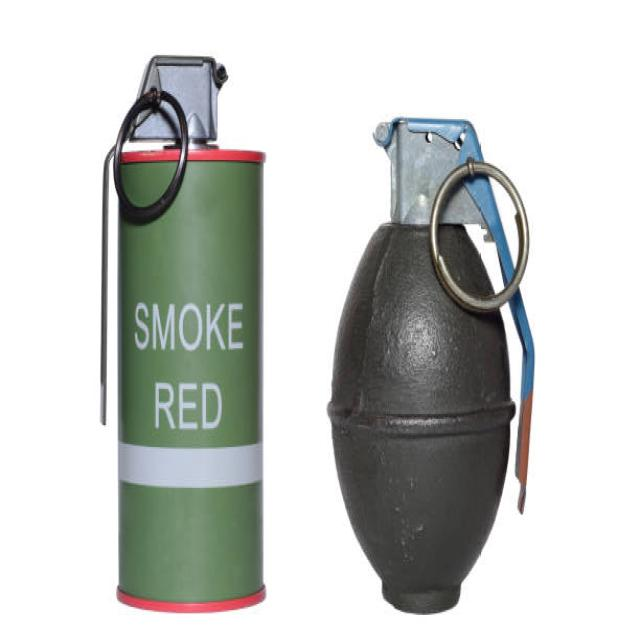grenade: (331, 104, 547, 625)
